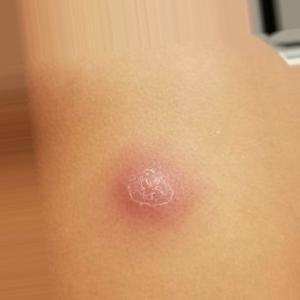Reupload: (112, 151, 191, 220)
